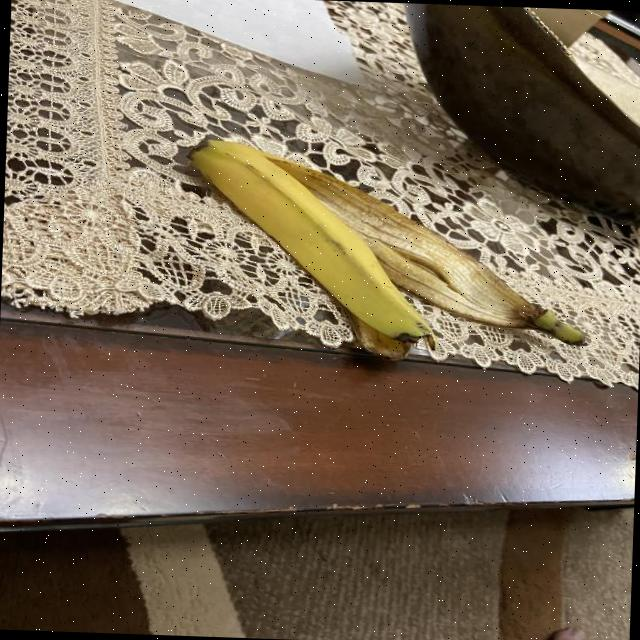banana-peel: (256, 147, 590, 345), (180, 134, 444, 358)
